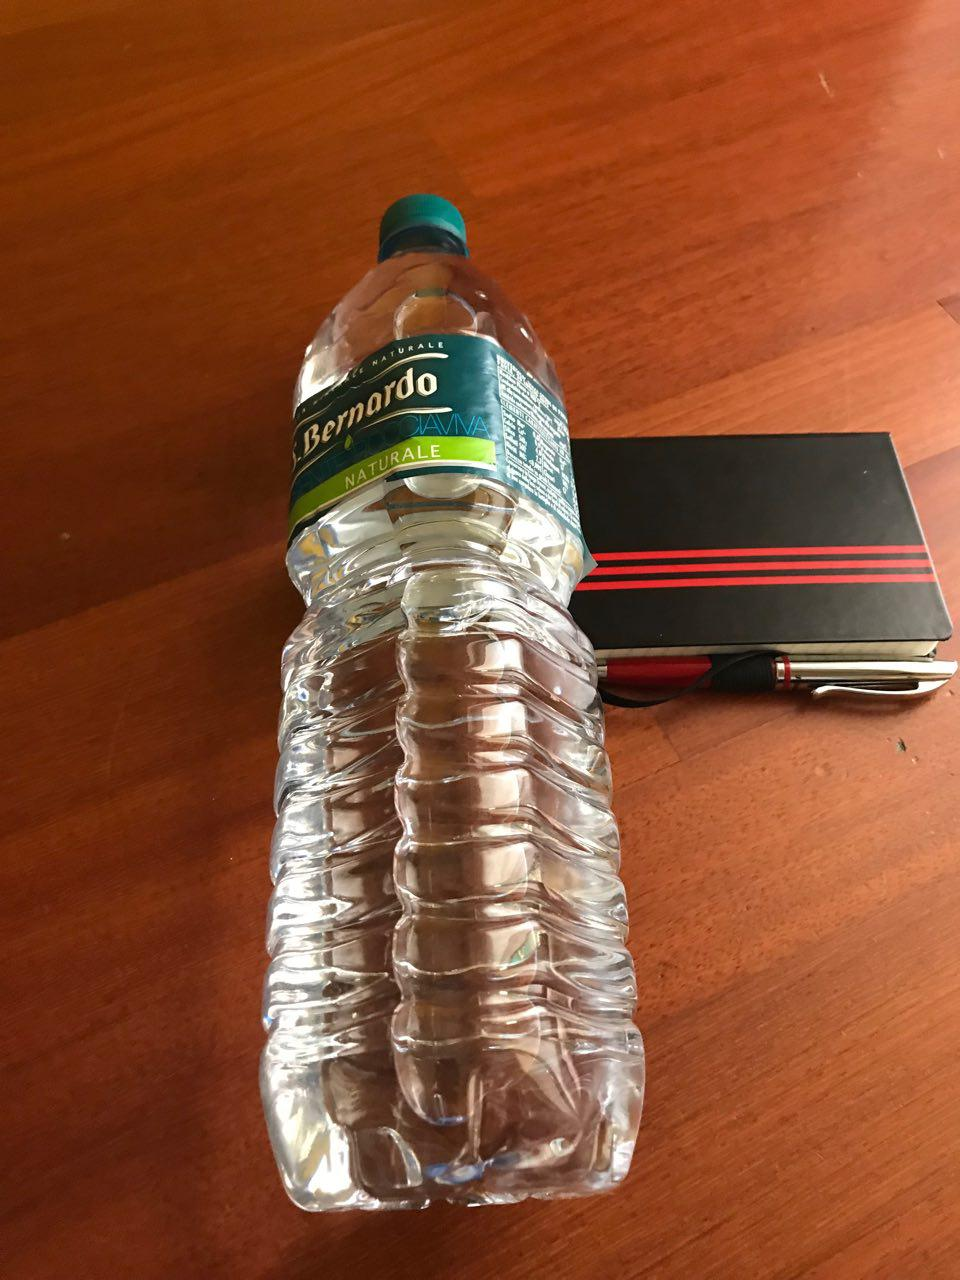san_bernardo: (254, 191, 649, 1219)
